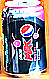pepsi: (2, 1, 47, 77)
